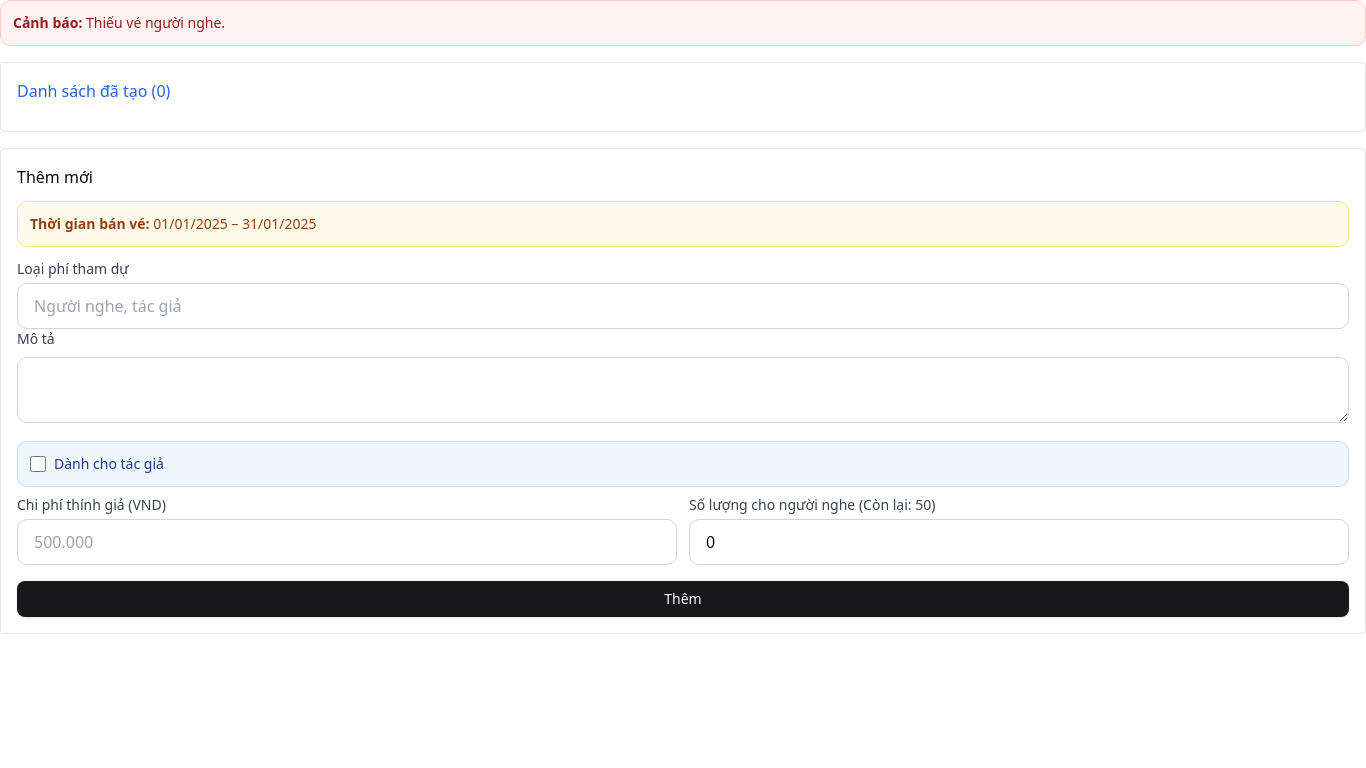
Test case: ResearchConferenceStepForm - Step 4: Price/Ticket › renders publish checkbox when author selected
Click the checkbox labelled "Dành cho tác giả". click: click(38, 464)
box: [30, 456, 46, 472]
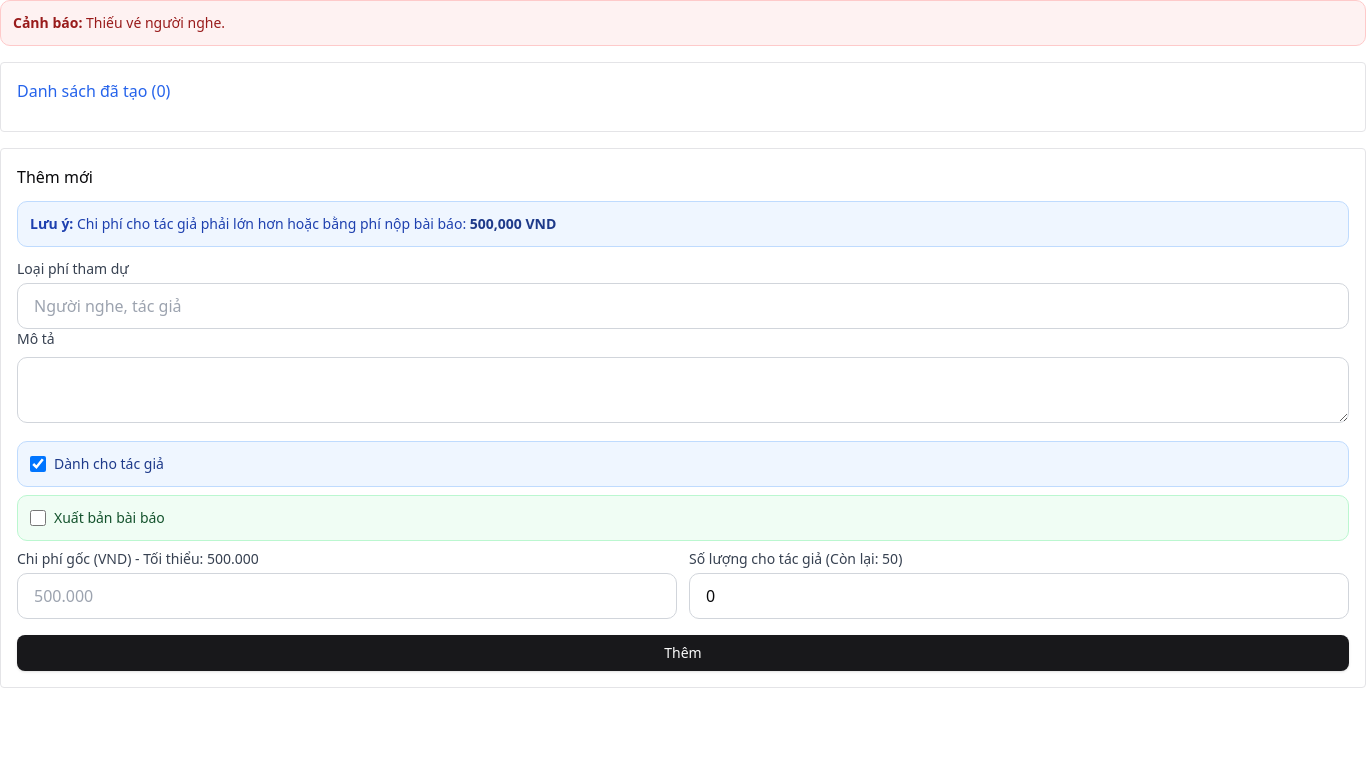
Now the text "Xuất bản bài báo" is shown, box [54, 508, 165, 528]
